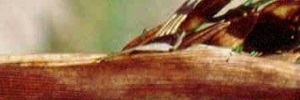RiceSheathBrownRot: (1, 43, 296, 100)
